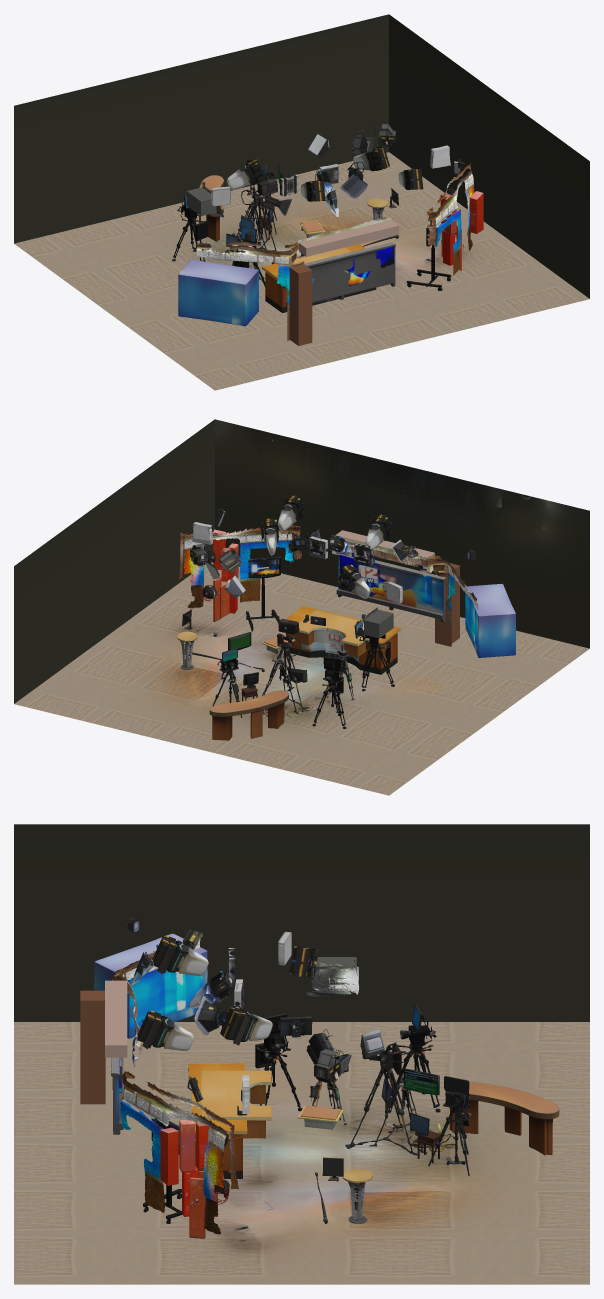
The model's file is scene_lite.glb.
3 views of the same model, one above another, from view 1: azimuth 30°, elevation 25°; view 2: azimuth 150°, elevation 25°; view 3: azimuth 270°, elevation 25° (orthographic). The views are drawn at different scales.
Parts seen in each view (by area): view 1: room_floor, room_wall_z_min, room_wall_x_max, 069_studio_screen, 068_studio_screen, room_relief_01, room_builtin_02_body, room_relief_00, room_builtin_00_body, 008_news_desk, 026_studio_camera, 027_studio_camera (+6 smaller); view 2: room_floor, room_wall_z_max, room_wall_x_max, 068_studio_screen, 069_studio_screen, room_relief_00, 007_news_desk, 008_news_desk, 030_studio_console, room_relief_01, 027_studio_camera, 026_studio_camera (+11 smaller); view 3: room_floor, room_wall_x_min, room_relief_00, 069_studio_screen, 007_news_desk, 030_studio_console, room_builtin_02_body, 008_news_desk, room_builtin_00_body, 021_studio_camera, 026_studio_camera, 027_studio_camera (+19 smaller).
Boxes of the visible parts, x1,y1,x2,y2 form: room_floor: (14, 152, 589, 390); room_wall_z_min: (14, 14, 388, 243); room_wall_x_max: (389, 14, 589, 298); 069_studio_screen: (178, 259, 258, 326); 068_studio_screen: (286, 242, 395, 306); room_relief_01: (196, 217, 387, 290); room_builtin_02_body: (289, 264, 312, 345); room_relief_00: (426, 170, 474, 275); room_builtin_00_body: (298, 220, 398, 256); 008_news_desk: (262, 244, 376, 312); 026_studio_camera: (225, 178, 277, 253); 027_studio_camera: (172, 194, 207, 261); room_floor: (14, 562, 589, 795); room_wall_z_max: (215, 419, 589, 648); room_wall_x_max: (14, 419, 214, 703); 068_studio_screen: (336, 554, 446, 622); 069_studio_screen: (465, 583, 515, 657); room_relief_00: (184, 525, 301, 608); 007_news_desk: (209, 690, 288, 740); 008_news_desk: (285, 606, 400, 674); 030_studio_console: (295, 610, 368, 657); room_relief_01: (332, 544, 478, 609); 027_studio_camera: (312, 656, 346, 728); 026_studio_camera: (262, 618, 308, 711); room_floor: (14, 1022, 589, 1284); room_wall_x_min: (14, 824, 589, 1021); room_relief_00: (120, 1070, 227, 1234); 069_studio_screen: (94, 933, 207, 1038); 007_news_desk: (445, 1081, 559, 1155); 030_studio_console: (201, 1070, 271, 1138); room_builtin_02_body: (80, 990, 105, 1104); 008_news_desk: (188, 1063, 247, 1178); room_builtin_00_body: (105, 980, 127, 1057); 021_studio_camera: (428, 1076, 471, 1175); 026_studio_camera: (345, 1033, 417, 1155); 027_studio_camera: (392, 1004, 440, 1112).
Bounding box in the file's own units: 4.56 × 1.6 × 4.23.
Materials: 71 (71 with a texture image).
